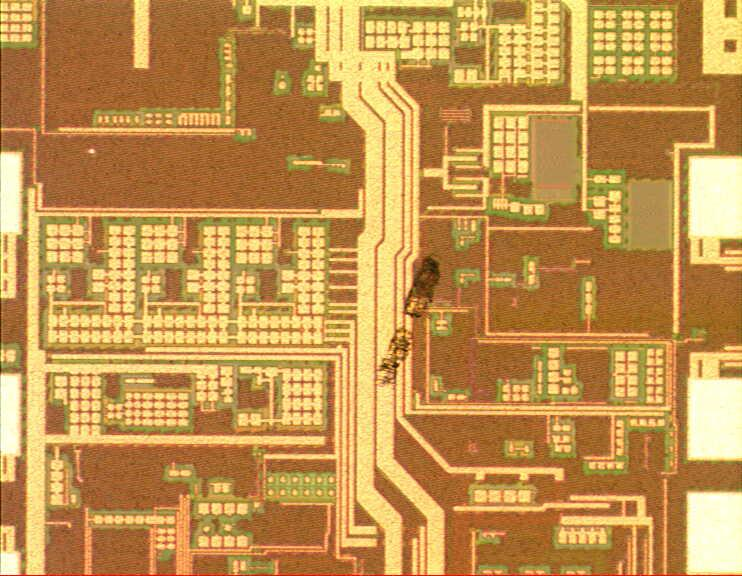BLOCK ETCH: (367, 252, 446, 392)
